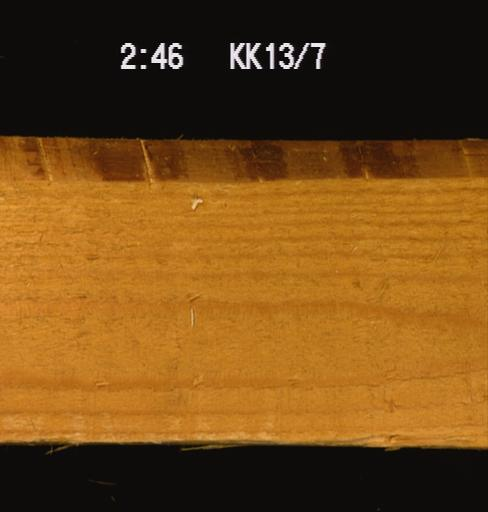wave: (0, 139, 486, 180)
